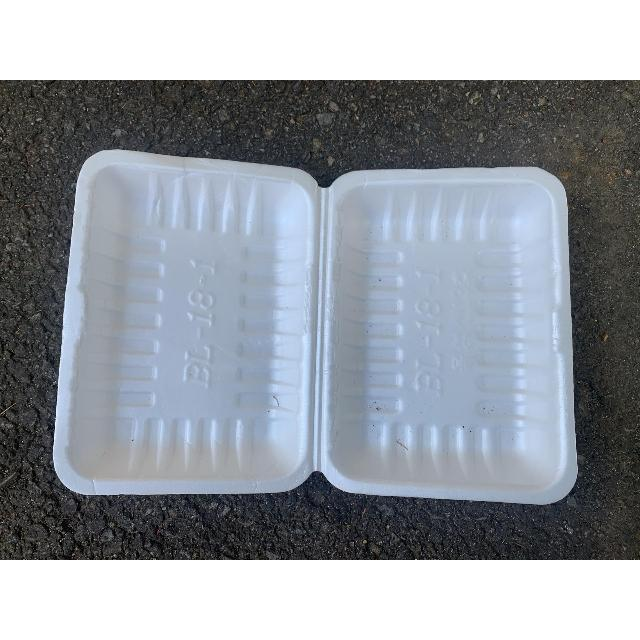Plastico descartable: (51, 150, 581, 508)
